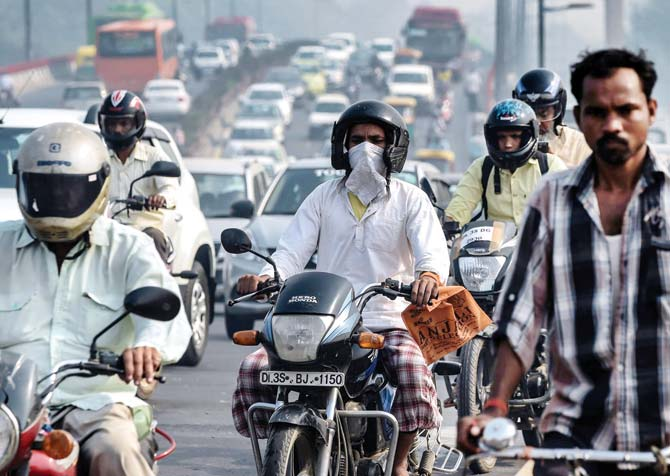with_helmet: (11, 123, 111, 239), (484, 103, 541, 162), (95, 93, 147, 141)
